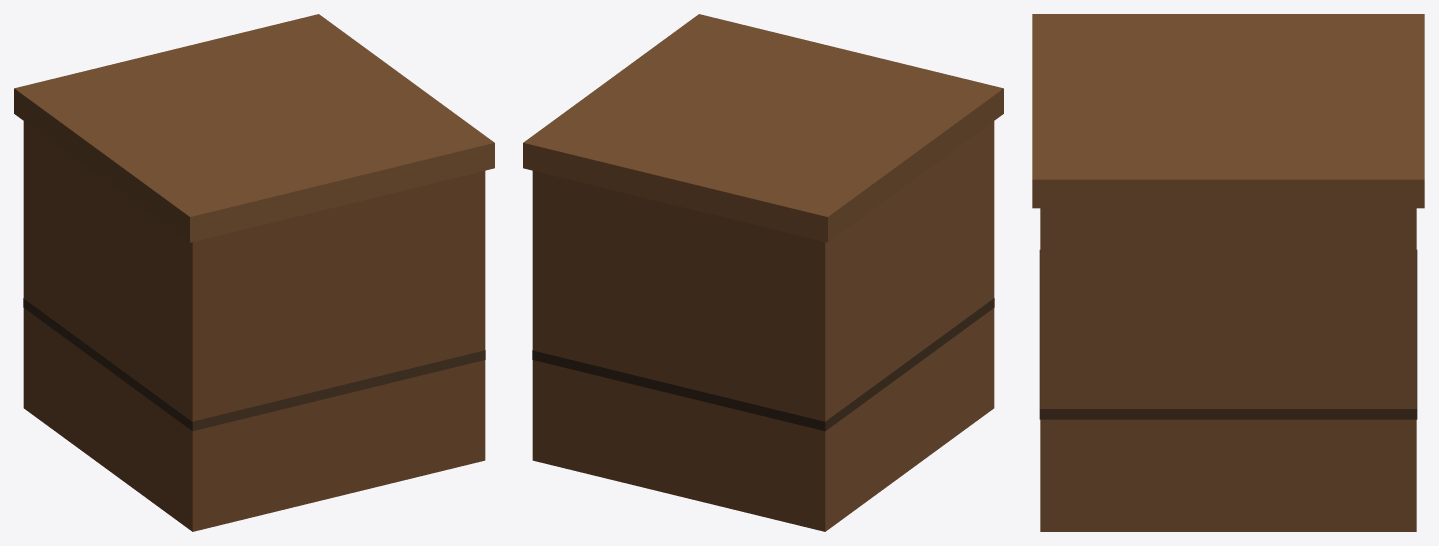
Rendered from Wall.fbx.
The picture shows the model from 3 angles, left to right: view 1: azimuth 30°, elevation 25°; view 2: azimuth 150°, elevation 25°; view 3: azimuth 270°, elevation 25°; orthographic projection. The views are drawn at different scales.
Visible parts, largest first — view 1: Wall; view 2: Wall; view 3: Wall.
Part boxes in pixels (bbox=[...]): Wall: bbox=[14, 14, 494, 531]; Wall: bbox=[523, 14, 1003, 531]; Wall: bbox=[1032, 14, 1424, 531].
Size of what is drawn, in the model's own units: 1 by 1 by 1.
